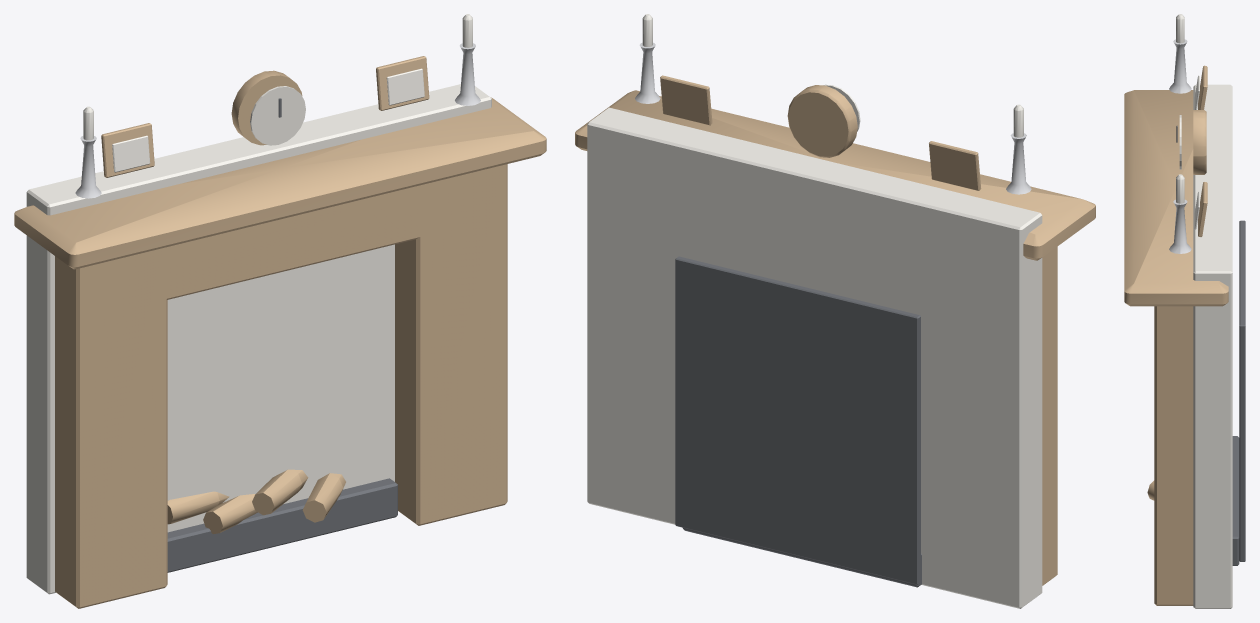
The model's file is care-home-and-day-room-fireplace-feature-21ed1666__35739.glb.
3 views of the same model, side by side, from view 1: azimuth 30°, elevation 25°; view 2: azimuth 150°, elevation 25°; view 3: azimuth 270°, elevation 25° (orthographic). The views are drawn at different scales.
Visible parts, largest first — view 1: fireplace-feature; view 2: fireplace-feature; view 3: fireplace-feature.
Boxes of the visible parts, x1,y1,x2,y2 form: fireplace-feature: (14, 14, 546, 608); fireplace-feature: (575, 14, 1095, 608); fireplace-feature: (1124, 14, 1245, 608).
Bounding box in the file's own units: 1.46 × 1.42 × 0.372.
